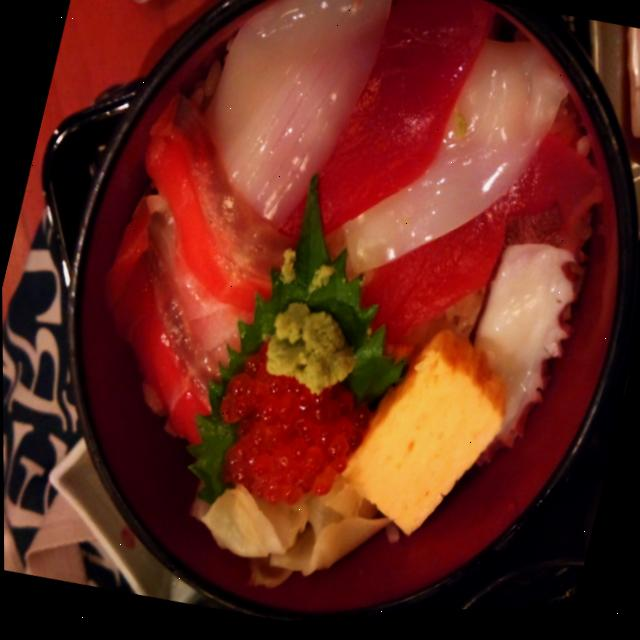刺身生食: (8, 0, 640, 640)
